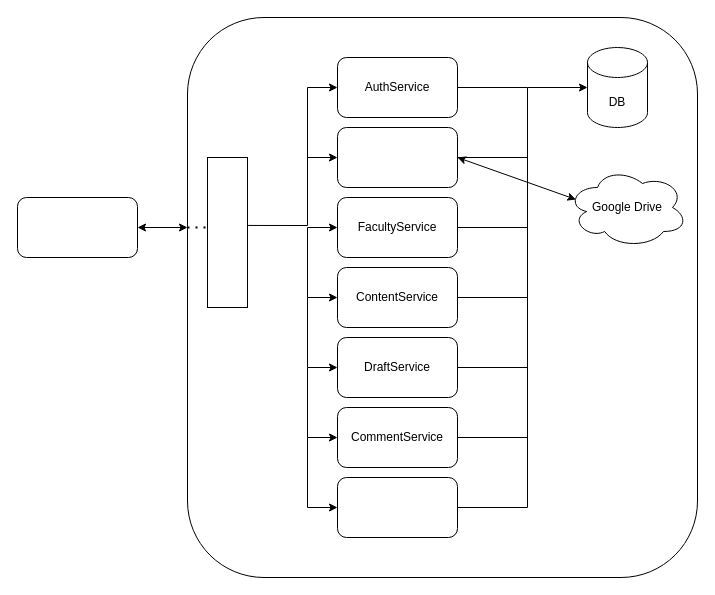
The diagram is 715 pixels wide and 595 high, and some of its shapes have lost their labels. Here are the shapes that lost their labels. From the top down, the centre of each, then its label:
At point 397,157: "FileStorage".
At point 77,227: "Frontend".
At point 227,232: "DispetcherServlet".
At point 397,507: "NatificationService".
